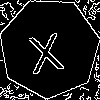X: (24, 23, 65, 75)
